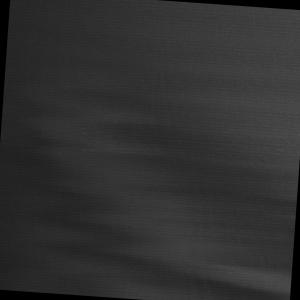Wrinkle: (1, 1, 300, 294)
